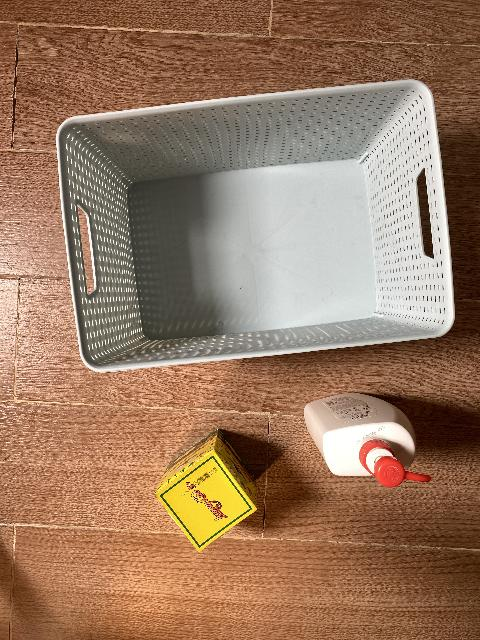cart: (55, 80, 456, 373)
life-buoy: (304, 393, 432, 488)
luong_kho: (155, 427, 257, 553)
